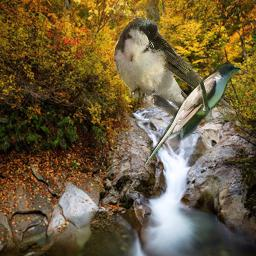Cuckoo: (143, 63, 241, 167)
Swallow: (111, 16, 238, 122)
